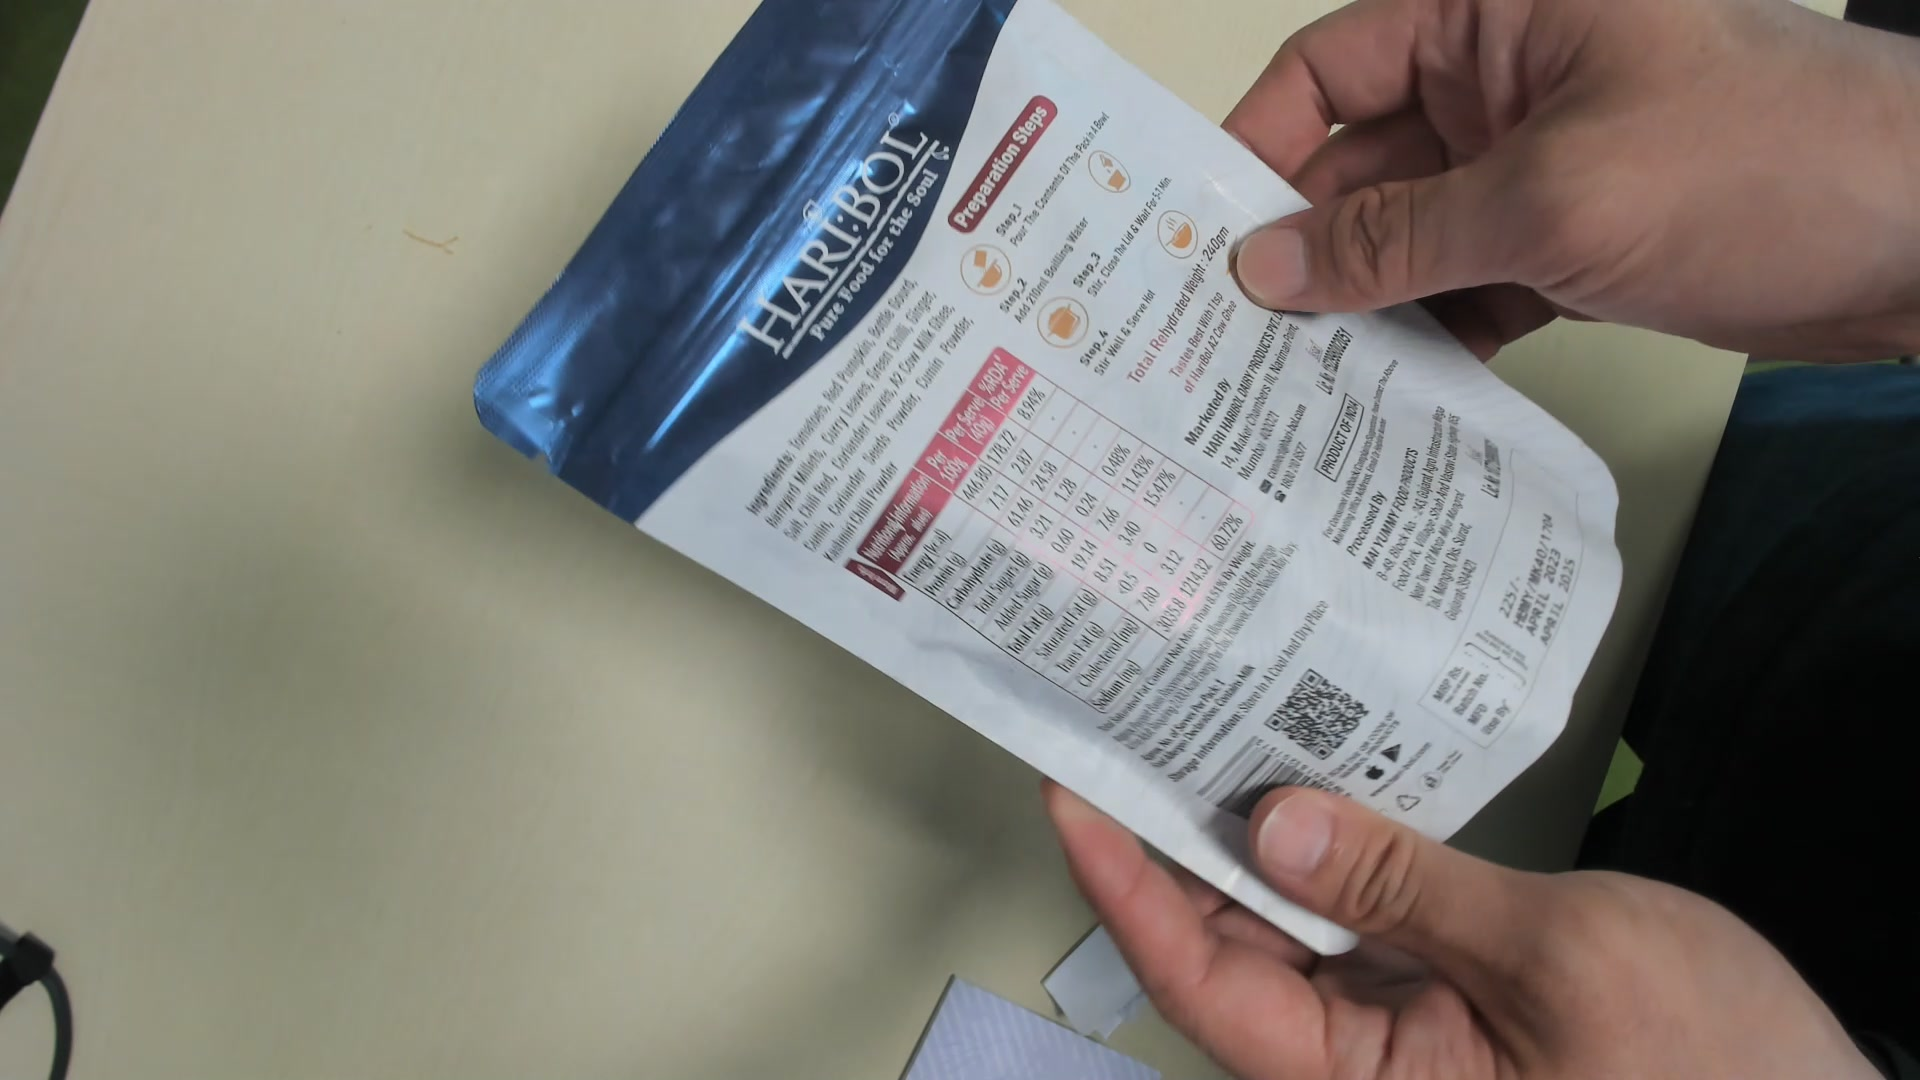InstantMeals_0-99g_NonHalal_NonHealthy: (454, 1, 1627, 959)
